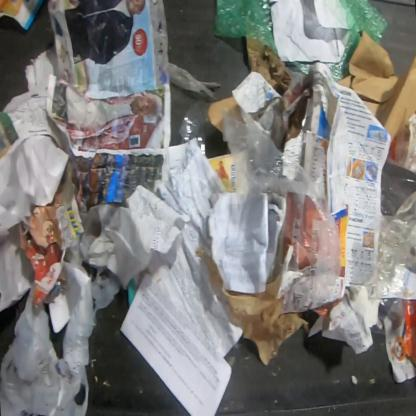cardboard: (336, 31, 416, 145), (245, 39, 292, 95), (219, 96, 240, 108)
soft_plastic: (176, 96, 342, 304), (0, 203, 123, 415), (362, 160, 415, 341), (284, 0, 389, 84), (149, 0, 223, 101), (214, 0, 278, 56)
